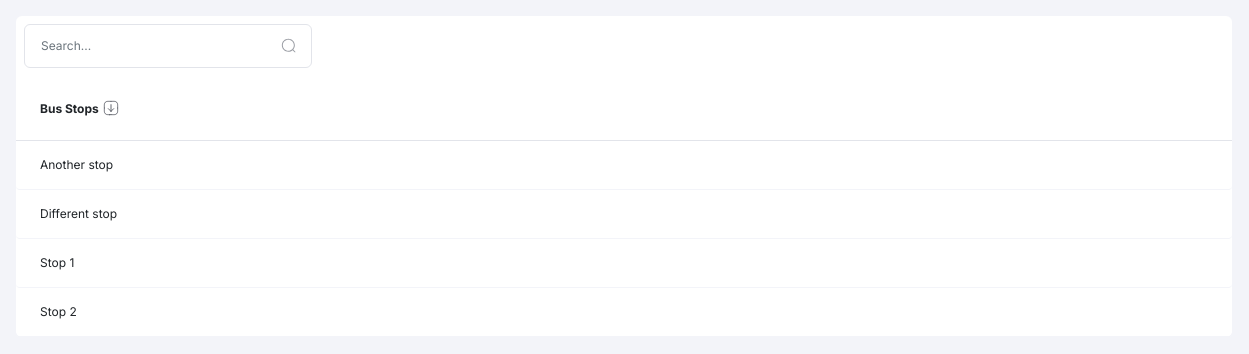
Test: BusStopsView › Renders filtered stops after search input change
Expected: the number of list items is 4, [16,141,1232,190]; [16,190,1232,239]; [16,239,1232,288]; [16,288,1232,337]
Expected: the list item "Another stop" is shown, [16,141,1232,190]
Step 1. Type "Stop" into the field with id "search" → (168, 46), box [24,24,312,68]
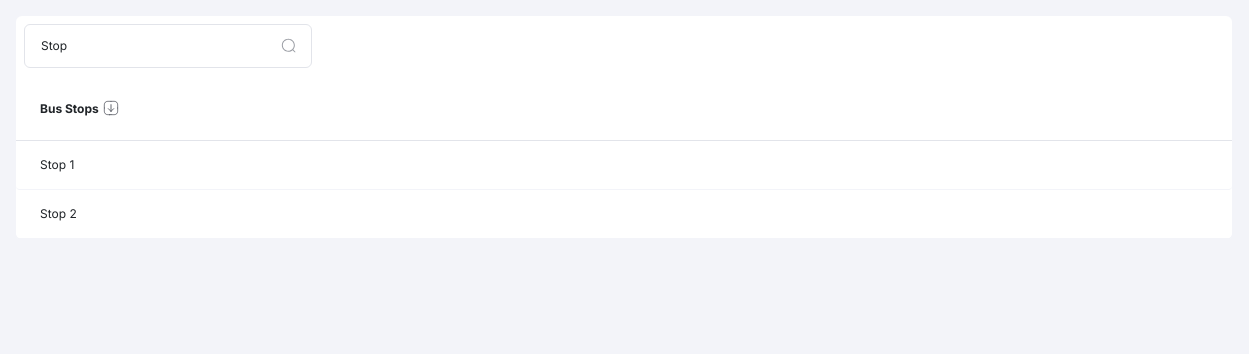
Expected: the list item "Stop 1" is shown, [16,141,1232,190]
Expected: the number of list items is 2, [16,141,1232,190]; [16,190,1232,239]
